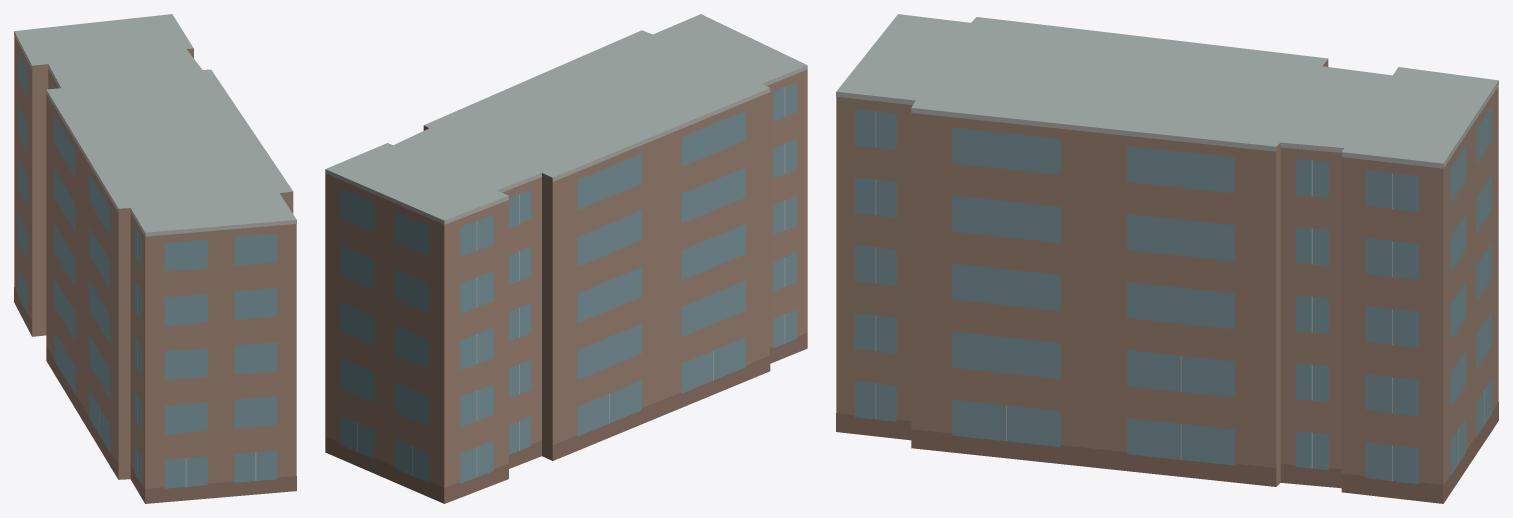
Rendered from survey-upis-32536123.glb.
The picture shows the model from 3 angles, left to right: view 1: azimuth 30°, elevation 25°; view 2: azimuth 150°, elevation 25°; view 3: azimuth 270°, elevation 25°; orthographic projection. The views are drawn at different scales.
Visible parts, largest first — view 1: survey-upis-32536123.tmp; view 2: survey-upis-32536123.tmp; view 3: survey-upis-32536123.tmp.
Boxes of the visible parts, left/top/right/bottom form: survey-upis-32536123.tmp: left=14, top=14, right=296, bottom=503; survey-upis-32536123.tmp: left=325, top=14, right=807, bottom=503; survey-upis-32536123.tmp: left=836, top=14, right=1498, bottom=503.
Bounding box in the file's own units: 15.67 × 16.6 × 29.31.
